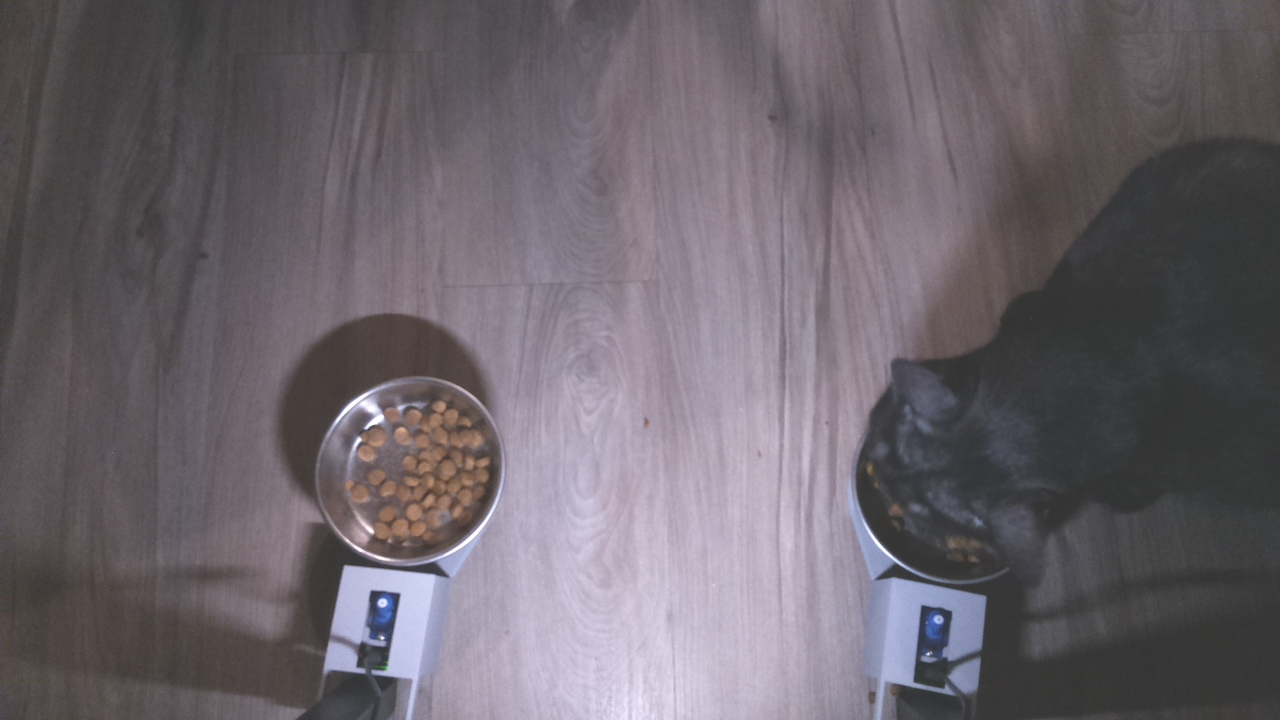open_bowl: (311, 375, 505, 569)
saki_eating: (837, 316, 1091, 594)
